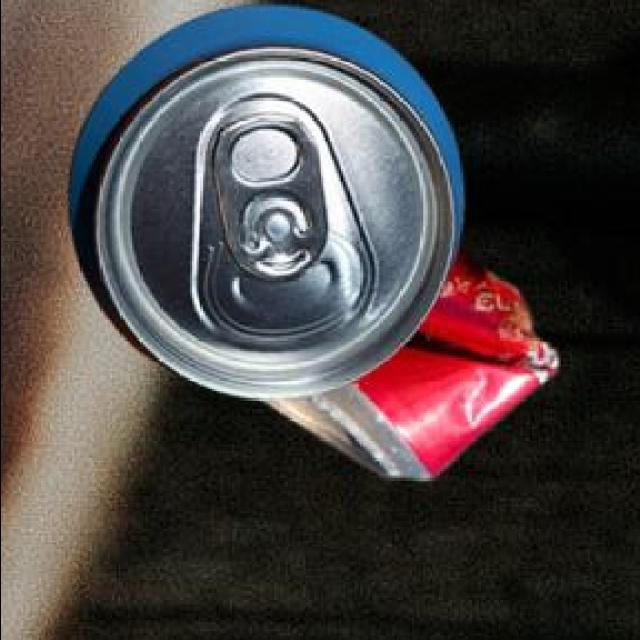logam: (70, 1, 466, 397), (268, 248, 559, 474)
